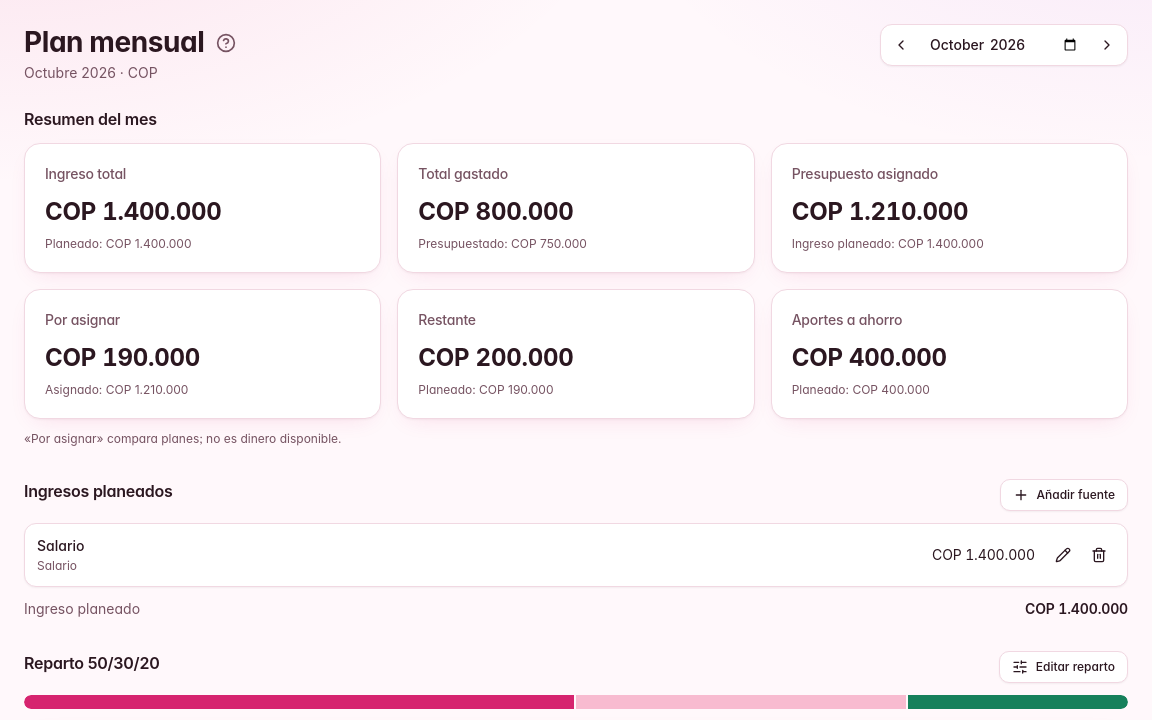
Test case: Plan › ingresos planeados › al editar, la categoría propia sigue seleccionable y marcada
Click the button named "Editar Salario" at (1063, 555), box [1047,539,1079,571]
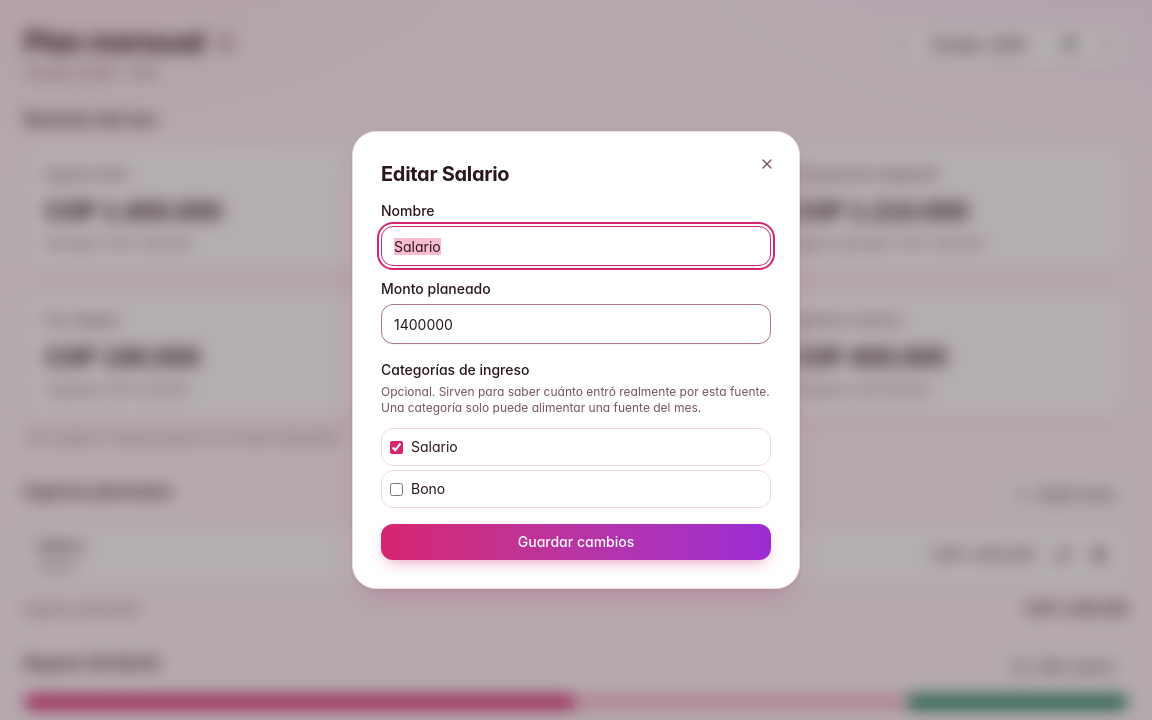
Now the checkbox labelled "Salario" is checked, box [390,440,403,454]
